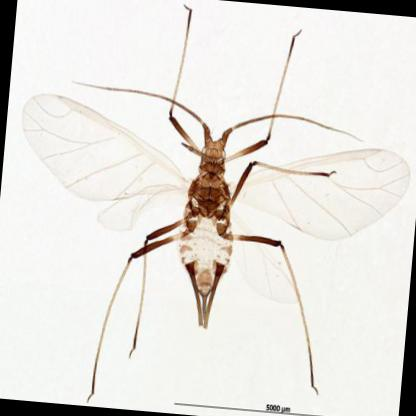uroleucon compositae: (22, 94, 412, 329)
